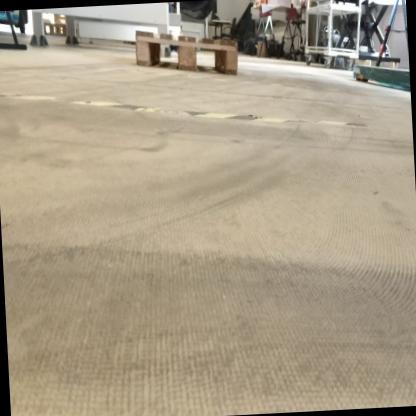BoxFace: (131, 25, 240, 81)
